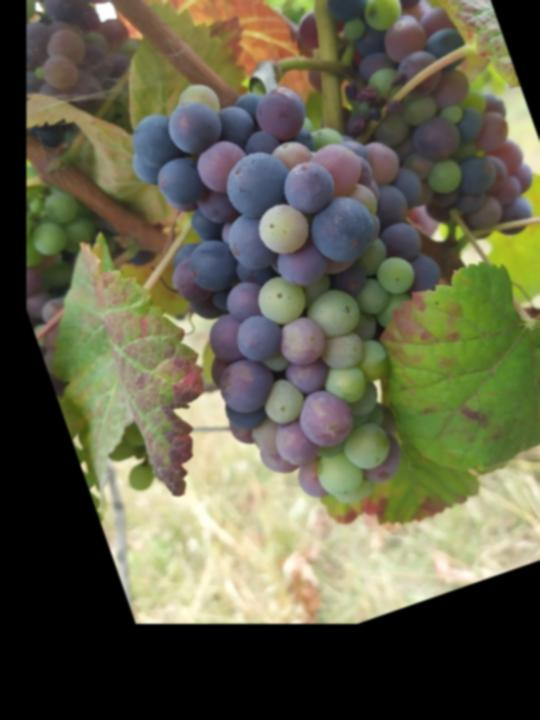grape: (109, 19, 517, 539)
